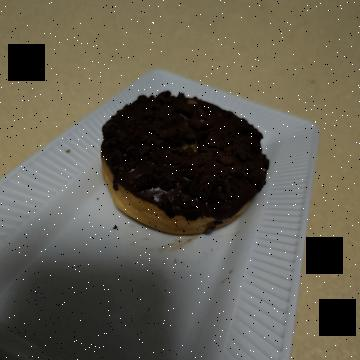doughnut: (67, 80, 244, 275)
